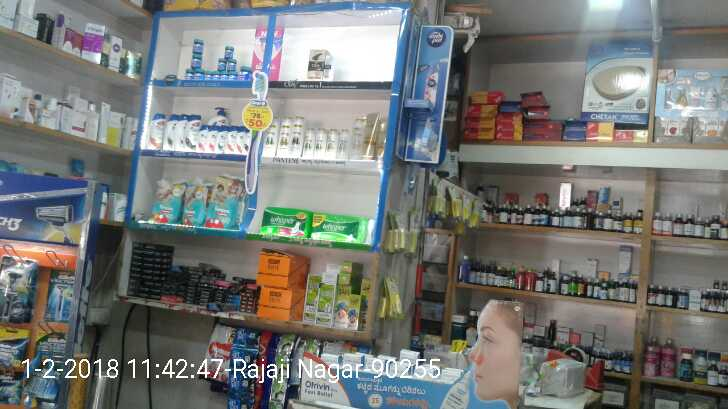beauty: (1, 261, 43, 317), (307, 49, 334, 82), (164, 111, 185, 152), (217, 126, 247, 154), (262, 116, 280, 156), (146, 112, 164, 151), (350, 118, 364, 158), (291, 115, 303, 157), (188, 114, 199, 154), (300, 127, 314, 158), (314, 127, 328, 158), (280, 115, 290, 157), (336, 129, 349, 159), (326, 127, 337, 159), (206, 125, 218, 153), (198, 124, 208, 155)
pharmacy: (208, 173, 243, 231), (311, 212, 370, 244), (257, 206, 315, 238), (152, 185, 182, 225), (185, 181, 205, 224), (191, 36, 207, 53), (188, 53, 204, 70), (220, 44, 236, 59), (192, 70, 211, 81), (239, 64, 249, 80), (216, 58, 226, 71), (227, 57, 235, 70), (212, 71, 221, 81), (185, 70, 193, 81), (228, 72, 237, 81), (221, 72, 226, 81)
